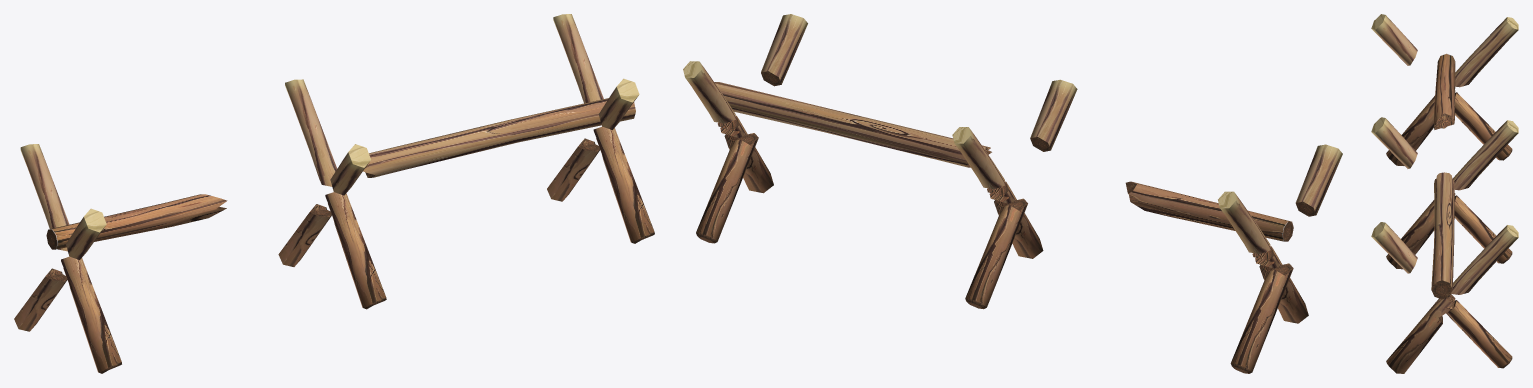
The model's file is barricadaBreak.FBX.
3 renders of one model, left to right at view 1: azimuth 30°, elevation 25°; view 2: azimuth 150°, elevation 25°; view 3: azimuth 270°, elevation 25°, orthographic. The views are drawn at different scales.
Parts seen in each view (by area): view 1: Object008, Object007, BObject019, BObject015, BObject009, BObject014, BObject010, BObject018, BObject020, BObject011, BObject016, BObject013 (+2 smaller); view 2: Object008, Object007, BObject016, BObject020, BObject011, BObject017, BObject012, BObject013, BObject010, BObject018, BObject014, BObject015 (+2 smaller); view 3: Object008, BObject009, BObject010, BObject014, BObject018, BObject011, Object007, BObject013, BObject017, BObject016, BObject012, BObject020 (+2 smaller).
Part boxes in pixels (<box>): Object008: <box>363,98,635,177</box>; Object007: <box>46,194,227,249</box>; BObject019: <box>61,256,121,373</box>; BObject015: <box>325,192,386,309</box>; BObject009: <box>593,126,654,243</box>; BObject014: <box>285,79,337,186</box>; BObject010: <box>553,14,603,103</box>; BObject018: <box>20,144,69,251</box>; BObject020: <box>14,268,67,331</box>; BObject011: <box>547,138,600,201</box>; BObject016: <box>278,204,331,266</box>; BObject013: <box>330,144,370,195</box>; Object008: <box>714,82,991,167</box>; Object007: <box>1125,181,1293,241</box>; BObject016: <box>965,198,1027,309</box>; BObject020: <box>1230,263,1293,373</box>; BObject011: <box>696,133,758,243</box>; BObject017: <box>1295,144,1342,216</box>; BObject012: <box>761,14,807,86</box>; BObject013: <box>1030,79,1077,151</box>; BObject010: <box>683,61,736,123</box>; BObject018: <box>1218,191,1271,253</box>; BObject014: <box>952,127,1005,188</box>; BObject015: <box>987,181,1043,258</box>; Object008: <box>1431,172,1454,299</box>; BObject009: <box>1386,294,1455,373</box>; BObject010: <box>1451,225,1518,294</box>; BObject014: <box>1452,120,1518,190</box>; BObject018: <box>1455,17,1518,87</box>; BObject011: <box>1435,300,1512,368</box>; Object007: <box>1434,53,1455,129</box>; BObject013: <box>1371,117,1417,168</box>; BObject017: <box>1371,14,1417,65</box>; BObject016: <box>1454,195,1512,263</box>; BObject012: <box>1371,222,1417,273</box>; BObject020: <box>1455,92,1512,160</box>.
Bounding box in the file's own units: 15.72 × 4.69 × 4.31.
